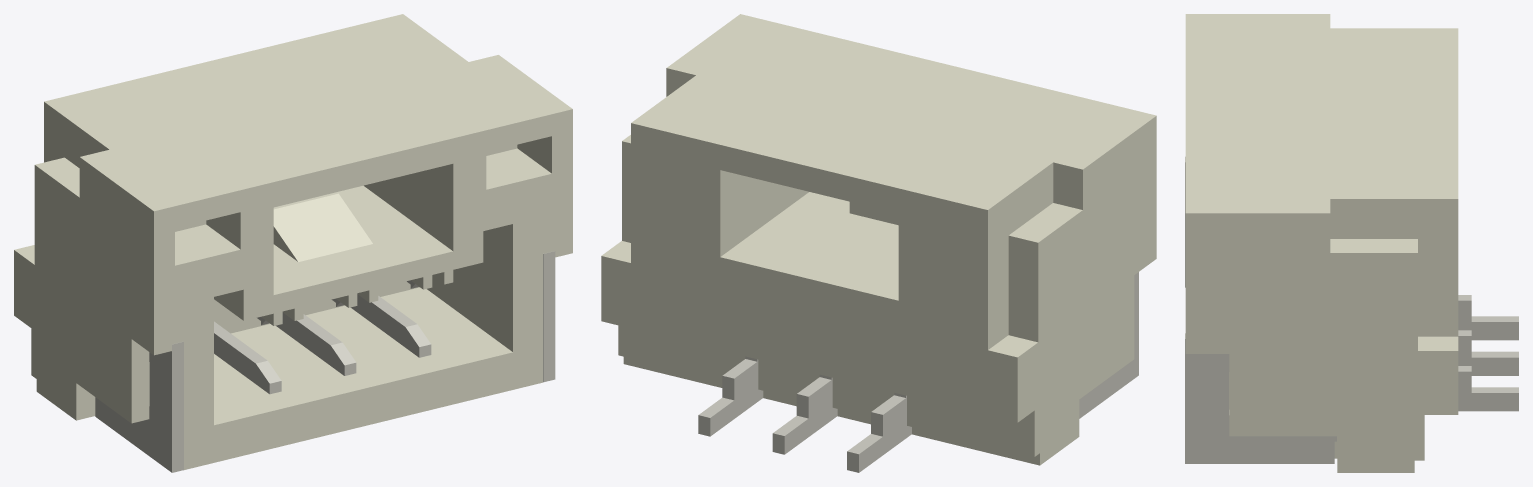
Rendered from kc-jst_gh_sm03b-ghs-tb_1x03-1mp_p1.25mm_horizontal.glb.
The picture shows the model from 3 angles, left to right: view 1: azimuth 30°, elevation 25°; view 2: azimuth 150°, elevation 25°; view 3: azimuth 270°, elevation 25°; orthographic projection. The views are drawn at different scales.
Parts seen in each view (by area): view 1: 0.75_0.75_0.5833333333333334_0, 0.6666666666666666_0.6666666666666666_0.5833333333333334_0.8; view 2: 0.75_0.75_0.5833333333333334_0, 0.6666666666666666_0.6666666666666666_0.5833333333333334_0.8; view 3: 0.75_0.75_0.5833333333333334_0, 0.6666666666666666_0.6666666666666666_0.5833333333333334_0.8.
Part boxes in pixels (left/top/right/bottom): 0.75_0.75_0.5833333333333334_0: left=14, top=14, right=572, bottom=469; 0.6666666666666666_0.6666666666666666_0.5833333333333334_0.8: left=95, top=251, right=555, bottom=472; 0.75_0.75_0.5833333333333334_0: left=601, top=14, right=1156, bottom=465; 0.6666666666666666_0.6666666666666666_0.5833333333333334_0.8: left=698, top=272, right=1138, bottom=472; 0.75_0.75_0.5833333333333334_0: left=1185, top=14, right=1458, bottom=472; 0.6666666666666666_0.6666666666666666_0.5833333333333334_0.8: left=1185, top=156, right=1518, bottom=463.
Bounding box in the file's own units: 0.7 × 0.425 × 0.4951.
